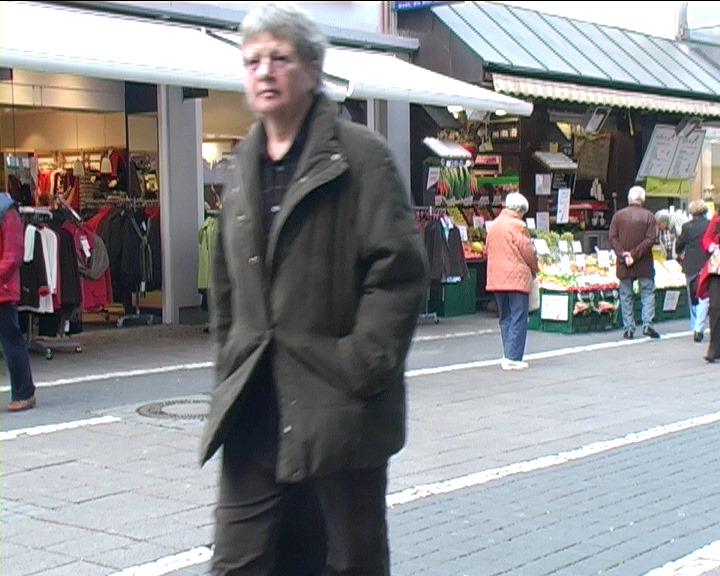undeflect: (217, 28, 391, 169)
